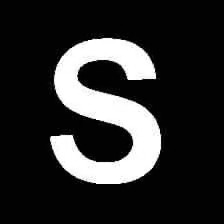LTR_S: (40, 31, 169, 190)
